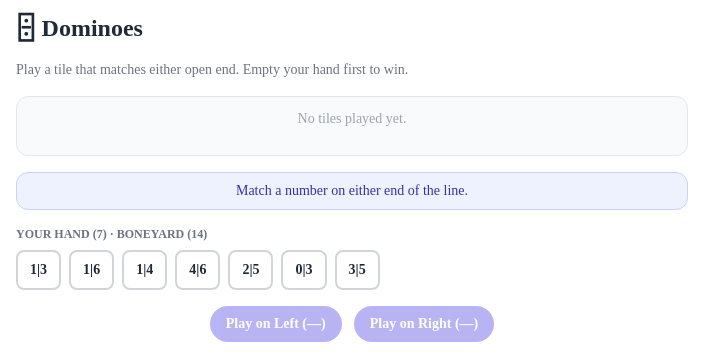
it: DominoGame › lets the player select and play their first tile to start the board
Click the button "1|3" at (39, 270), box [16, 250, 61, 290]
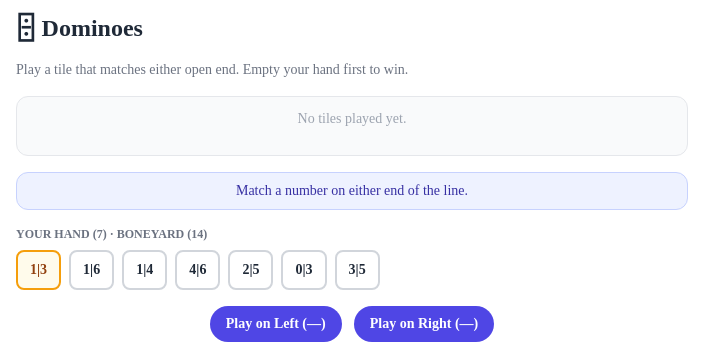
Click the button "Play on Left (—)" at (276, 324), box [210, 306, 342, 342]
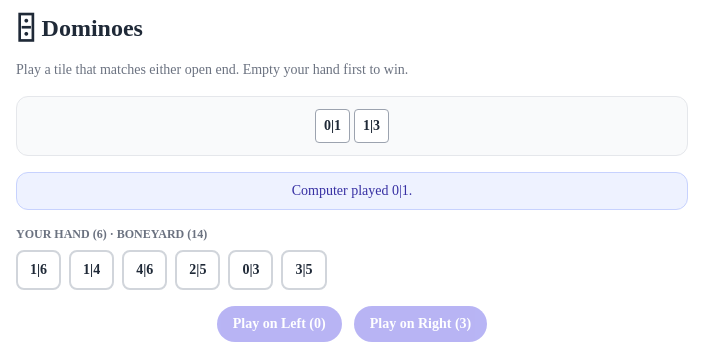
Result: the text "No tiles played yet." is gone
